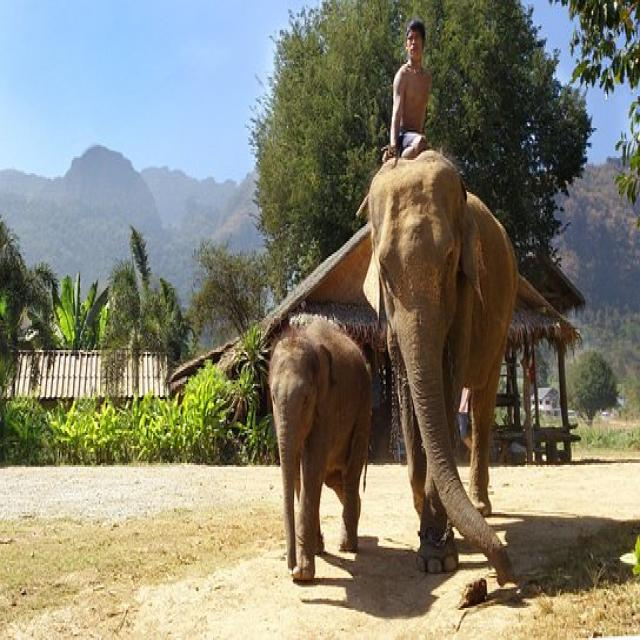Elephant: (360, 139, 529, 595), (248, 298, 380, 596)
